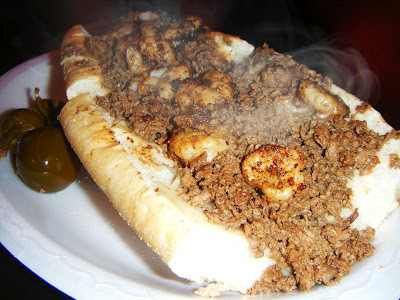cheese: (143, 123, 267, 208)
